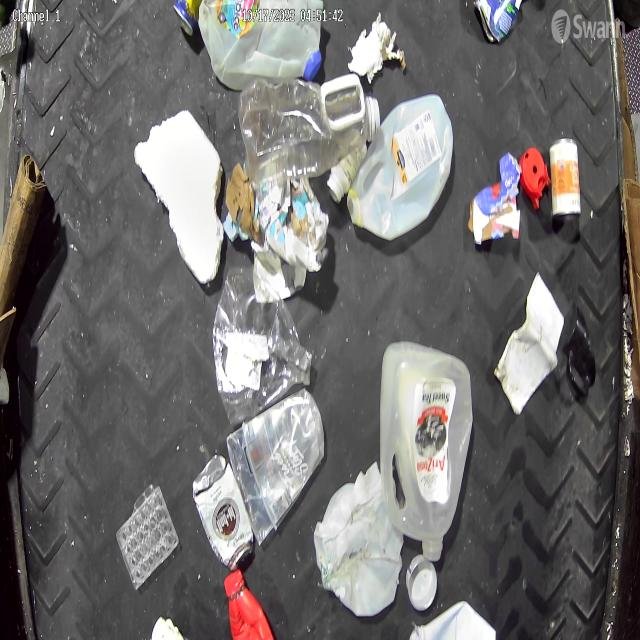can: (192, 452, 255, 575), (550, 134, 582, 221), (174, 1, 207, 36)
milk_jug: (379, 340, 472, 562), (347, 94, 453, 240), (198, 0, 324, 93)
